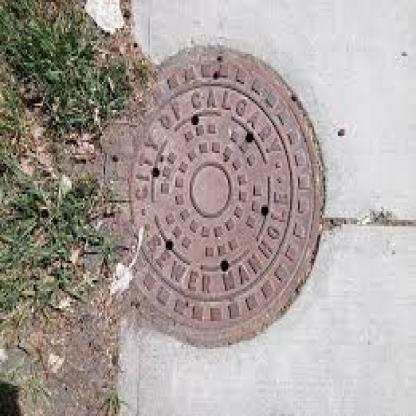closed manhole-not overflowing-: (103, 54, 336, 354)
